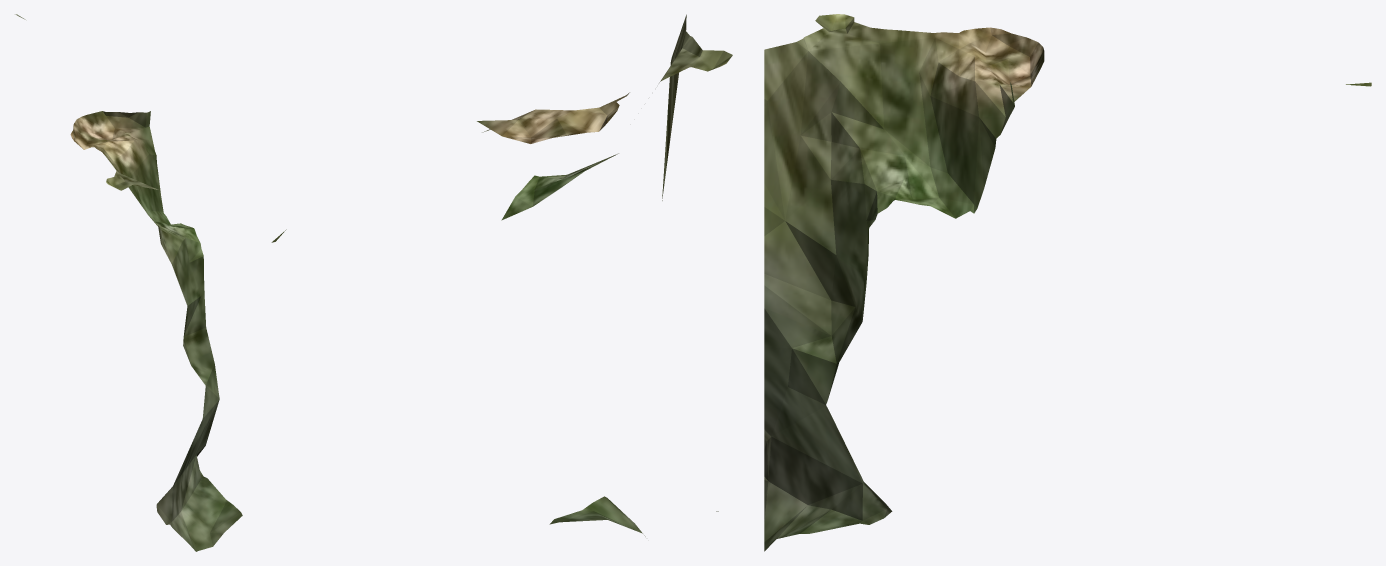
The picture shows the model from 3 angles, left to right: view 1: azimuth 30°, elevation 25°; view 2: azimuth 150°, elevation 25°; view 3: azimuth 270°, elevation 25°; orthographic projection. The views are drawn at different scales.
Bounding box in the file's own units: 0.8115 × 2.62 × 2.95.
1 material, 1 textured.
